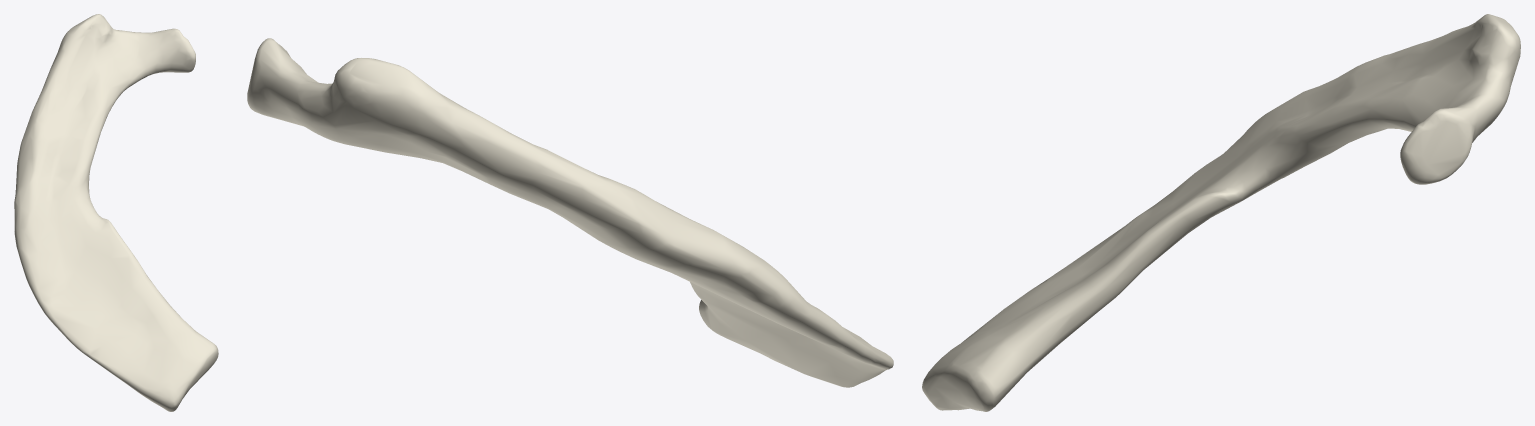
The picture shows the model from 3 angles, left to right: view 1: azimuth 30°, elevation 25°; view 2: azimuth 150°, elevation 25°; view 3: azimuth 270°, elevation 25°; orthographic projection. The views are drawn at different scales.
Visible parts, largest first — view 1: ZA_5f467e0a0e22c16c; view 2: ZA_5f467e0a0e22c16c; view 3: ZA_5f467e0a0e22c16c.
Boxes of the visible parts, x1=… form: ZA_5f467e0a0e22c16c: x1=14, y1=14, x2=218, y2=411; ZA_5f467e0a0e22c16c: x1=247, y1=38, x2=893, y2=387; ZA_5f467e0a0e22c16c: x1=922, y1=14, x2=1520, y2=411.
Bounding box in the file's own units: 0.0549 × 0.0594 × 0.0707.
